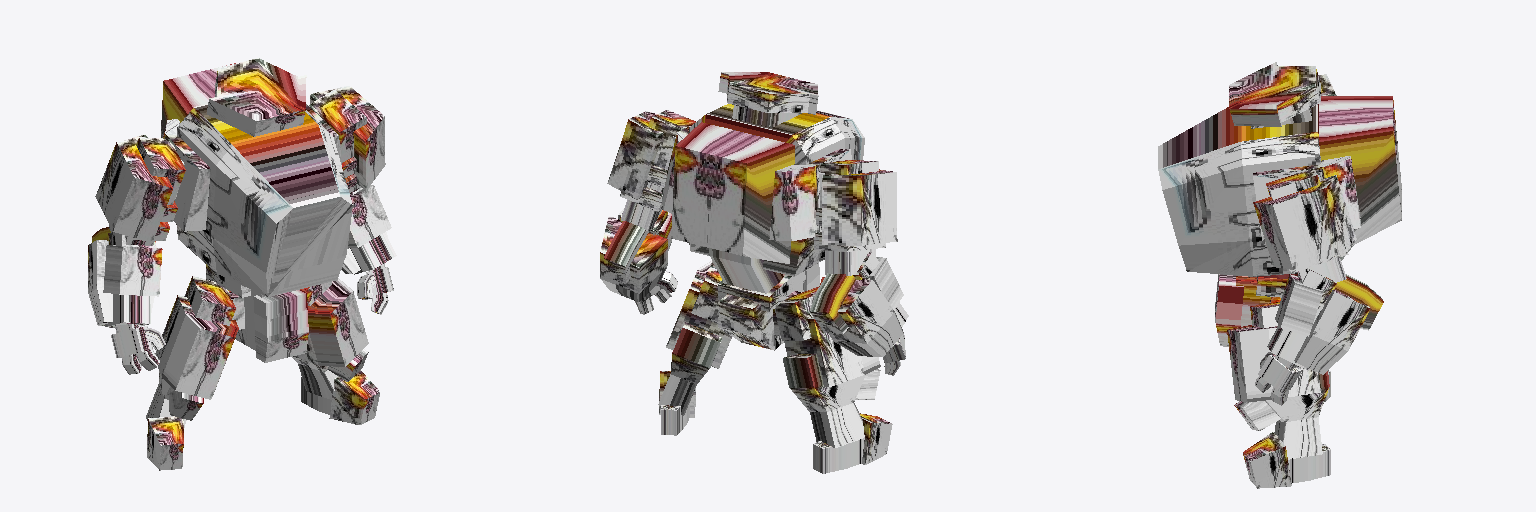
3 views of the same model, side by side, from view 1: azimuth 30°, elevation 25°; view 2: azimuth 150°, elevation 25°; view 3: azimuth 270°, elevation 25° (orthographic).
Parts seen in each view (by area): view 1: Cube.009; view 2: Cube.009; view 3: Cube.009.
Part boxes in pixels (x1,y1,x2,y2): Cube.009: (88, 58, 396, 470); Cube.009: (600, 72, 908, 473); Cube.009: (1158, 62, 1401, 488).
Bounding box in the file's own units: 1.88 × 2.25 × 1.38.
1 materials, 1 textured.